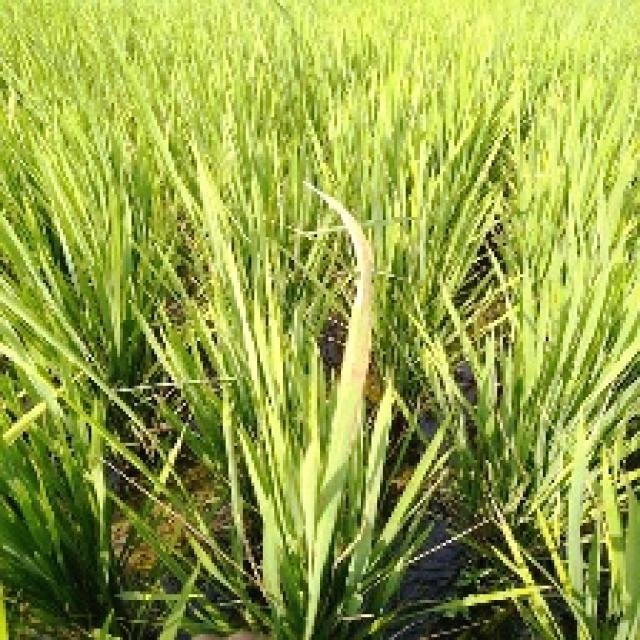-: (0, 0, 640, 196)
